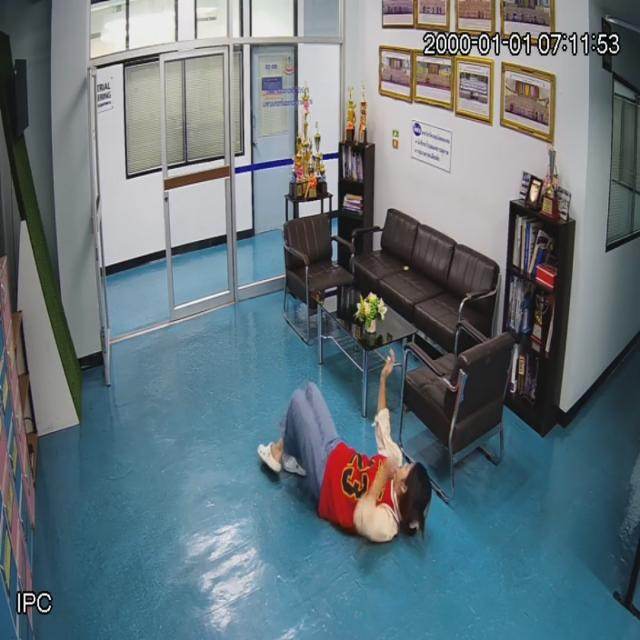fall: (258, 386, 428, 551)
